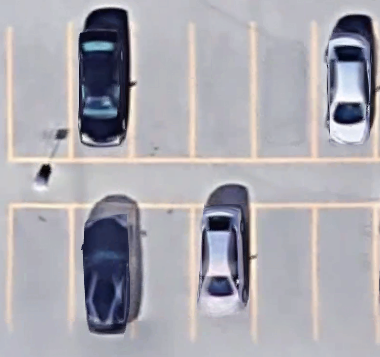Occupied: (314, 22, 376, 161), (70, 24, 133, 160), (191, 205, 255, 335), (69, 205, 132, 330)
Vacant: (8, 24, 71, 160), (253, 22, 315, 160), (193, 25, 255, 160), (314, 204, 377, 336), (133, 24, 194, 160), (253, 206, 315, 336), (131, 205, 192, 334), (8, 205, 71, 329)
